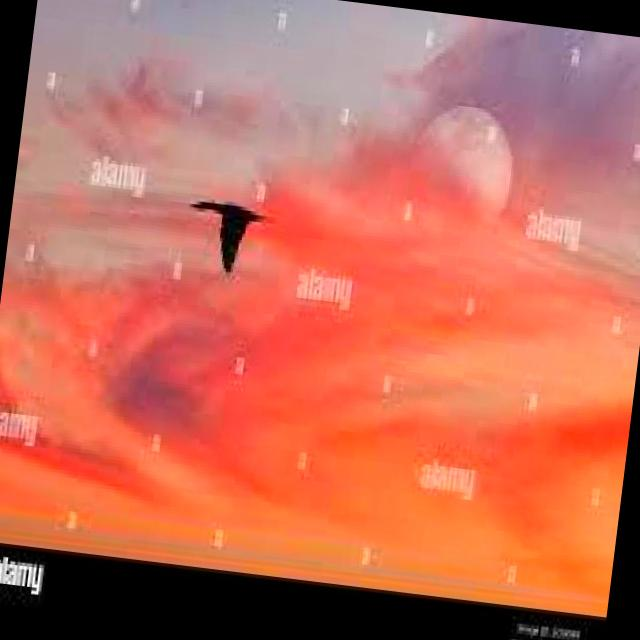bird: (179, 190, 278, 276)
